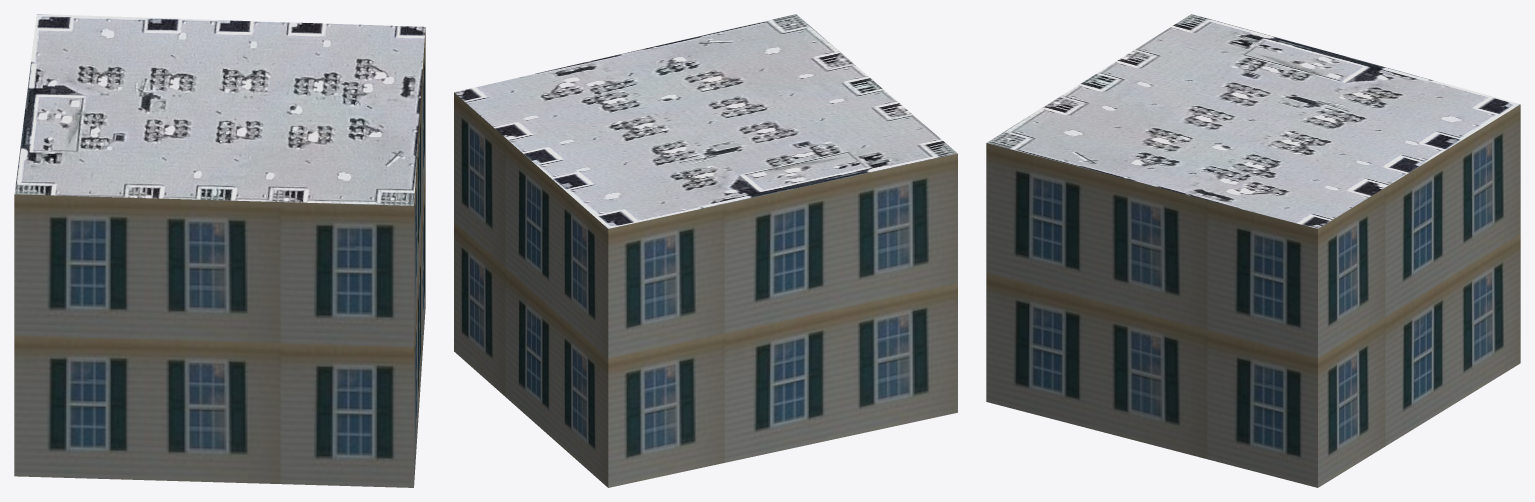
File: ResTex__3718.fbx
3 views of the same model, side by side, from view 1: azimuth 30°, elevation 25°; view 2: azimuth 150°, elevation 25°; view 3: azimuth 270°, elevation 25° (orthographic). The views are drawn at different scales.
Parts seen in each view (by area): view 1: CityEngineMaterial_7_m, CityEngineMaterial_4_m; view 2: CityEngineMaterial_7_m, CityEngineMaterial_4_m; view 3: CityEngineMaterial_7_m, CityEngineMaterial_4_m.
Part boxes in pixels (box(x1,y1,x2,y2)): CityEngineMaterial_7_m: box(14, 27, 425, 487); CityEngineMaterial_4_m: box(14, 14, 425, 205); CityEngineMaterial_7_m: box(454, 92, 957, 487); CityEngineMaterial_4_m: box(454, 14, 957, 228); CityEngineMaterial_7_m: box(986, 104, 1520, 487); CityEngineMaterial_4_m: box(987, 14, 1519, 228).
Size of the model in its own units: 10.68 by 6 by 11.22.
2 materials, 2 textured.
